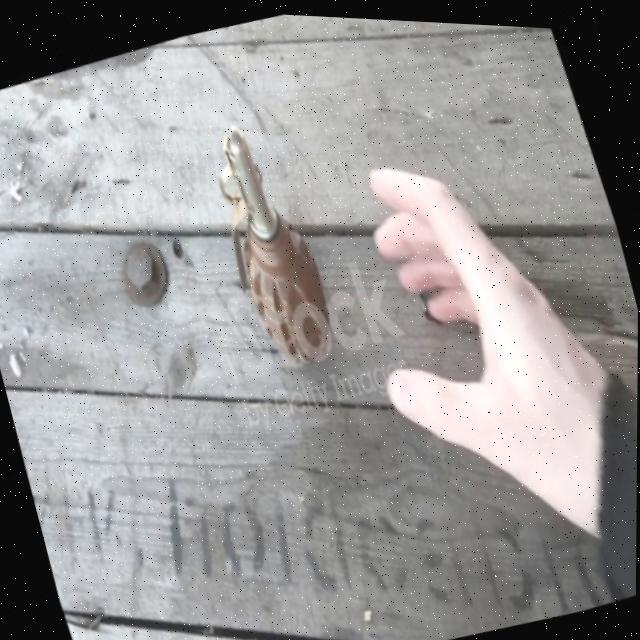grenade: (190, 107, 345, 377)
